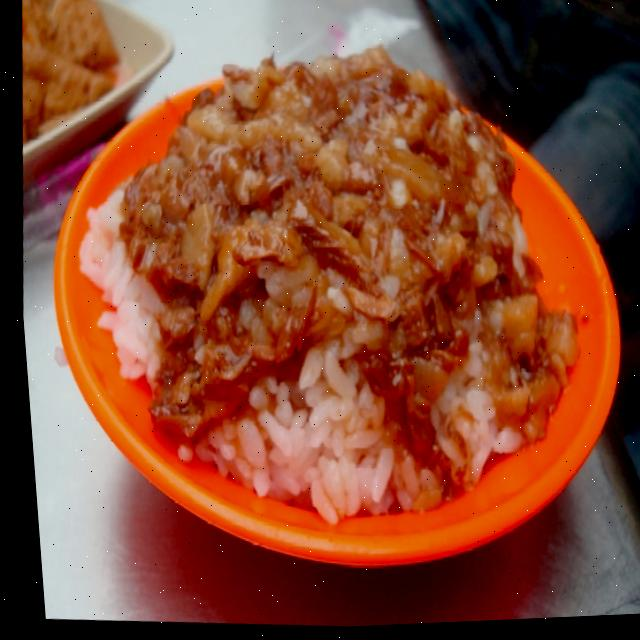猪肉菜式: (32, 0, 640, 633)
